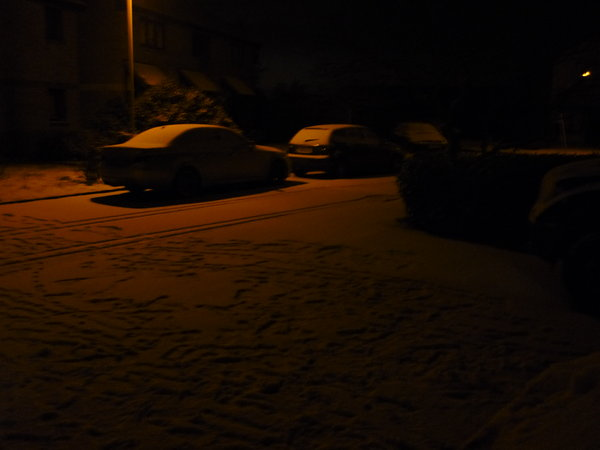car: (85, 107, 290, 218)
